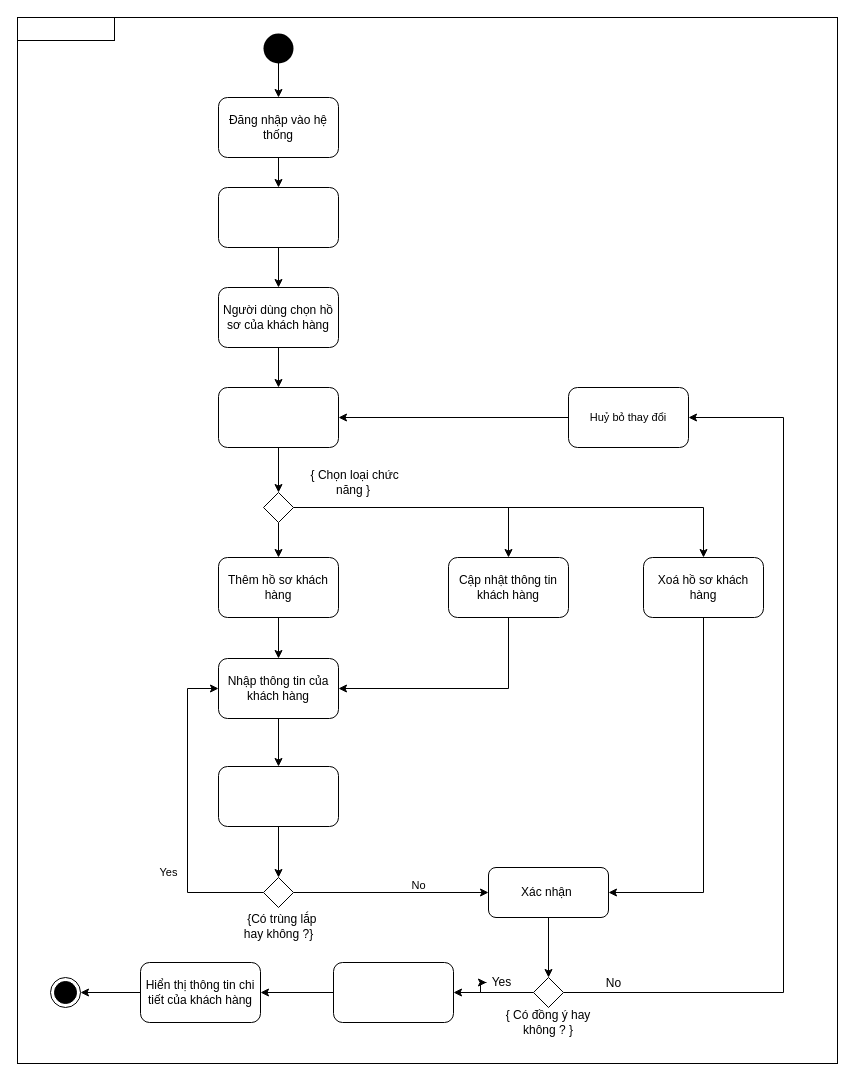
The diagram is 855 pixels wide and 1081 high, and some of its shapes have lost their labels. Each missing label, with the box of its shape:
Activity Diagram: (16, 16, 114, 40)
Chọn chức năng thao tác: (218, 386, 338, 448)
Hiển thị danh sách hồ sơ khách hàng: (218, 186, 338, 248)
Kiểm tra thông tin vừa nhập vào của người dùng: (218, 766, 338, 826)
Lưu vào cơ sở dữ liệu: (332, 962, 454, 1022)
